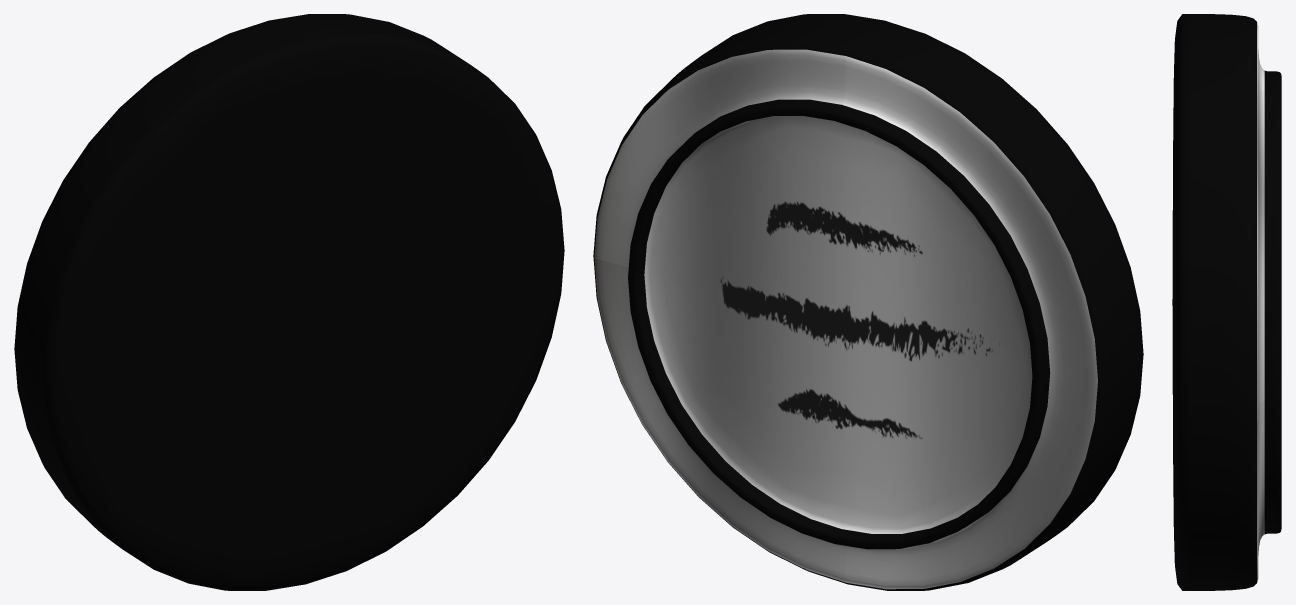
3 views of the same model, side by side, from view 1: azimuth 30°, elevation 25°; view 2: azimuth 150°, elevation 25°; view 3: azimuth 270°, elevation 25° (orthographic). The views are drawn at different scales.
Parts seen in each view (by area): view 1: bouton3; view 2: bouton3; view 3: bouton3.
Part boxes in pixels (x1,y1,x2,y2): bouton3: [14, 14, 564, 590]; bouton3: [593, 14, 1143, 590]; bouton3: [1172, 14, 1281, 590].
Bounding box in the file's own units: 4.98 × 4.98 × 0.9397.
4 materials, 1 textured.
